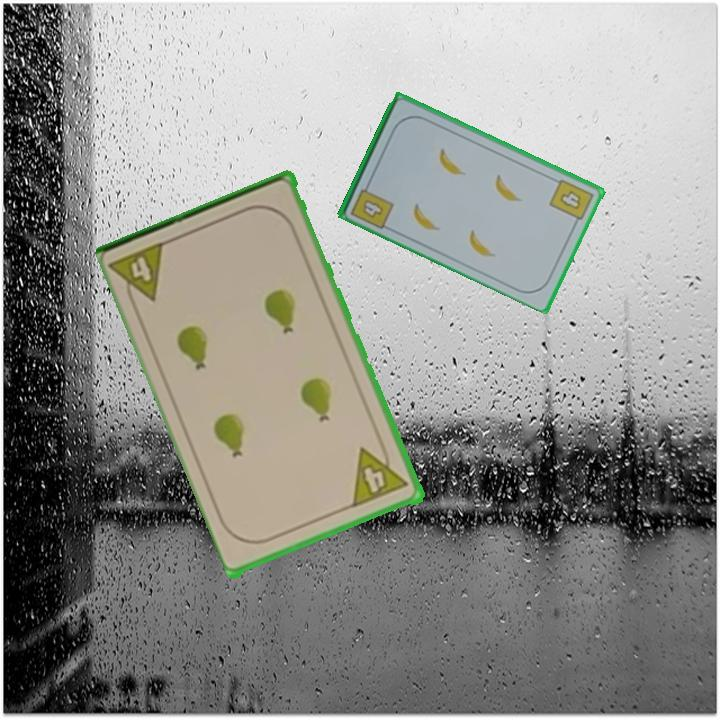4b: (347, 177, 396, 232), (546, 175, 596, 228)
4p: (108, 237, 171, 312), (349, 438, 412, 510)
